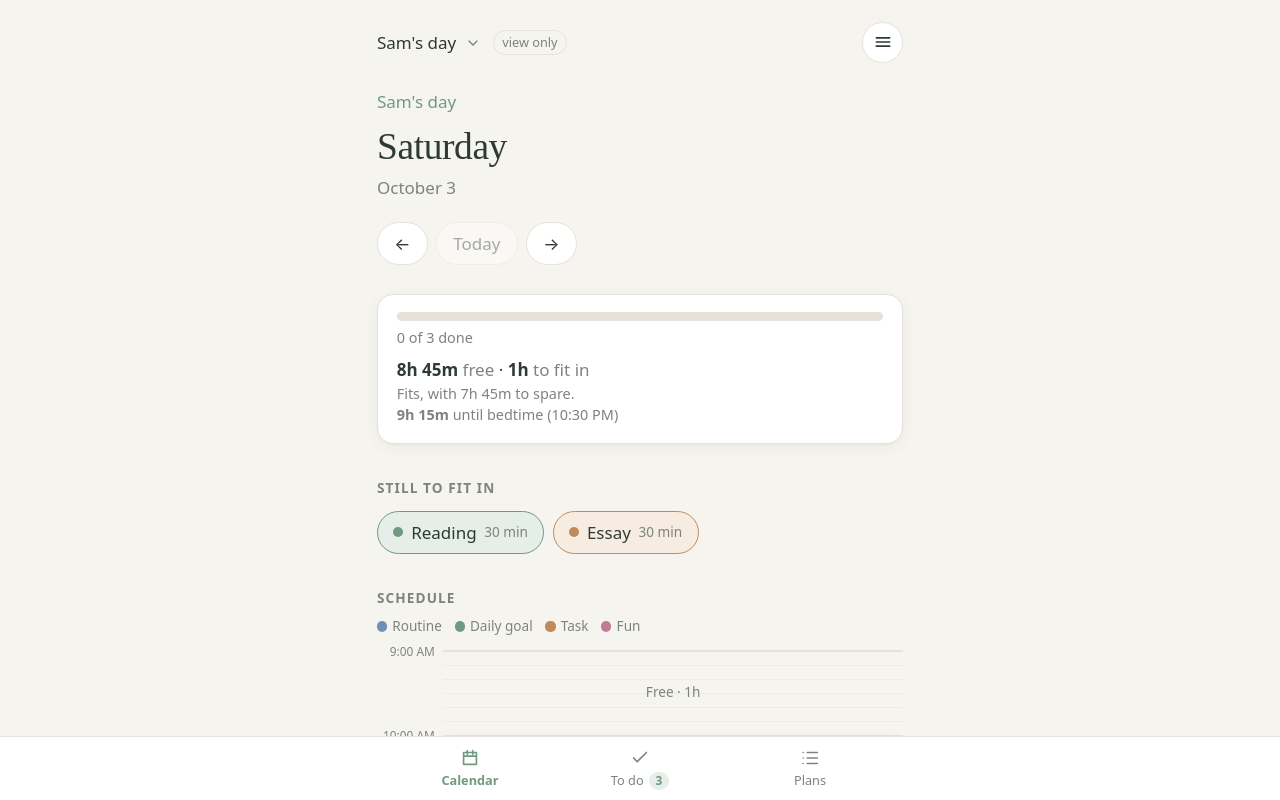
Test: viewing someone else's day › their plans and awake hours are view only too, and the menu has no Share my day
Expected: the heading "Saturday" is shown, top-left (377, 126), bottom-right (507, 167)
Click the button "Plans".
click(810, 768)  # box top-left (725, 743), bottom-right (895, 794)
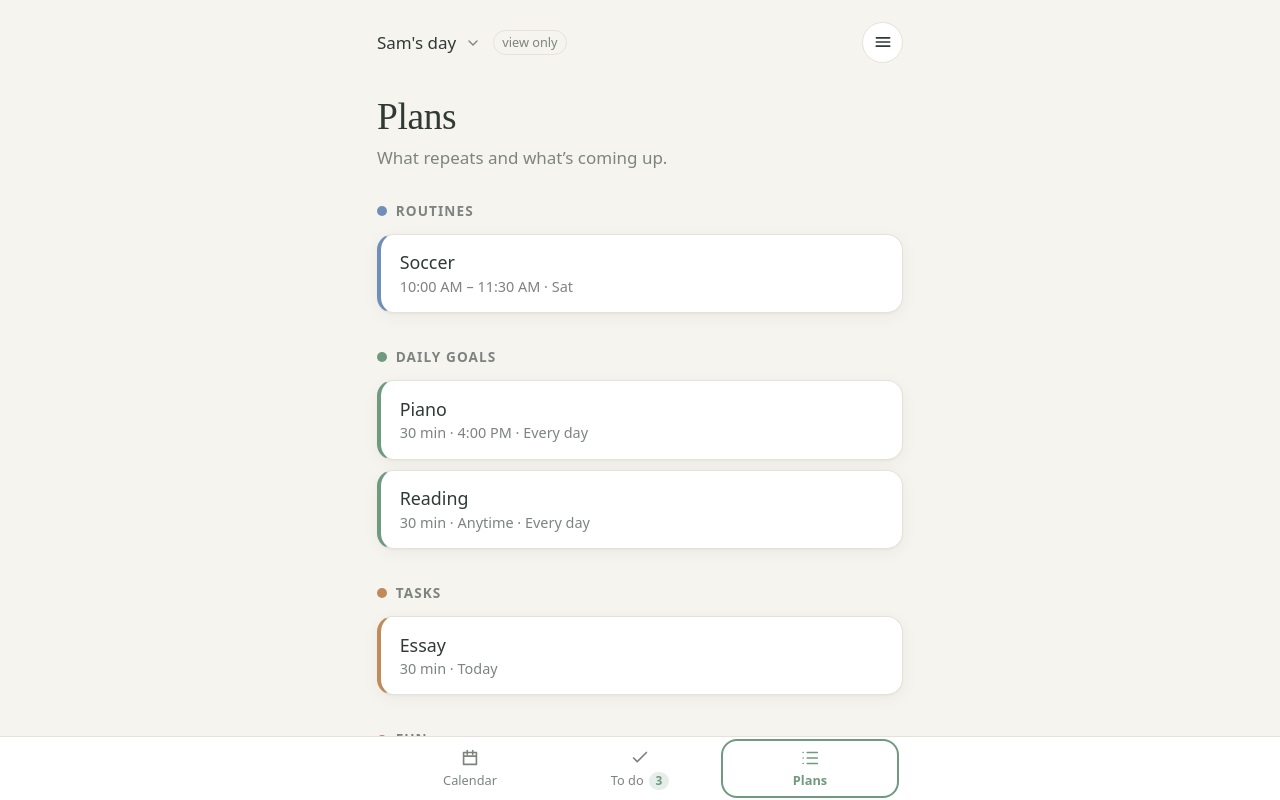
Click the text "Reading".
click(434, 498)  # box top-left (400, 485), bottom-right (468, 512)
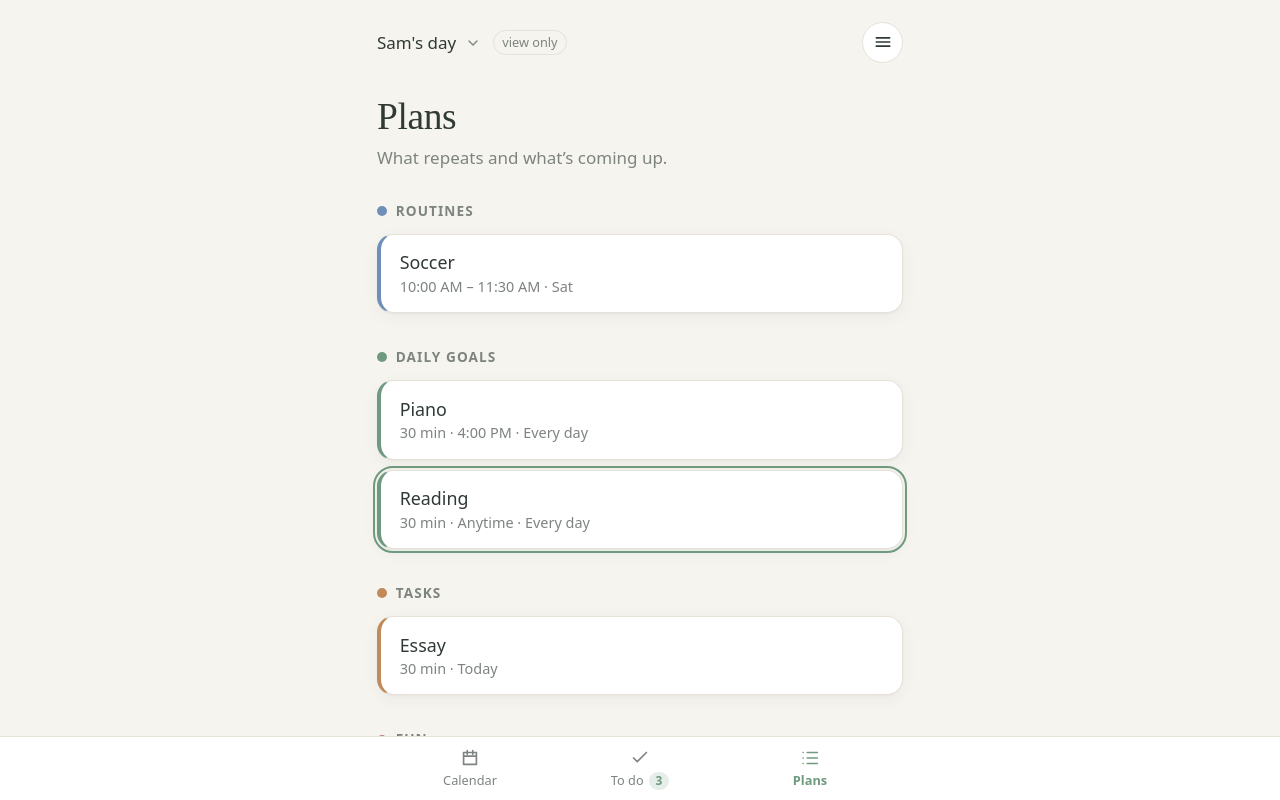
Click the button named "Menu".
click(883, 42)  # box top-left (862, 22), bottom-right (903, 63)
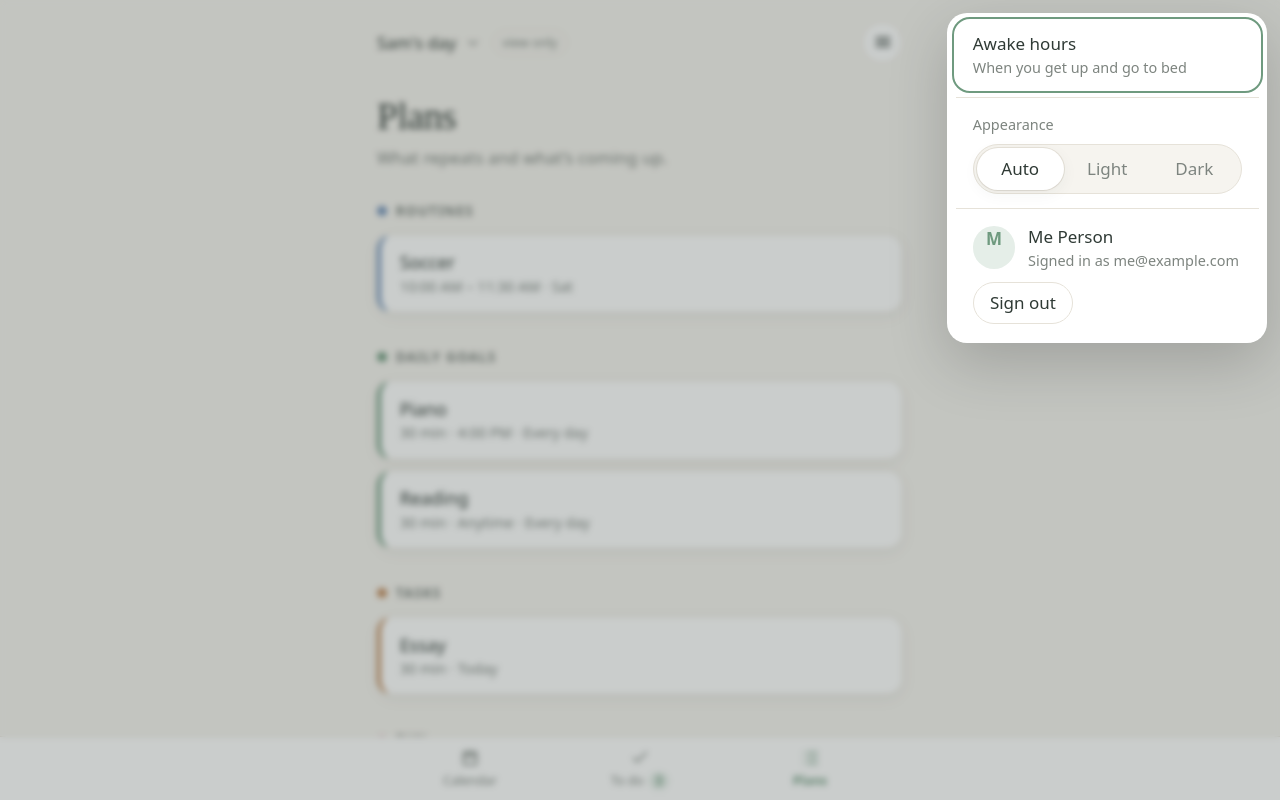
Click the button "Awake hours When you get up and go to bed".
click(1107, 55)  # box top-left (956, 21), bottom-right (1259, 89)
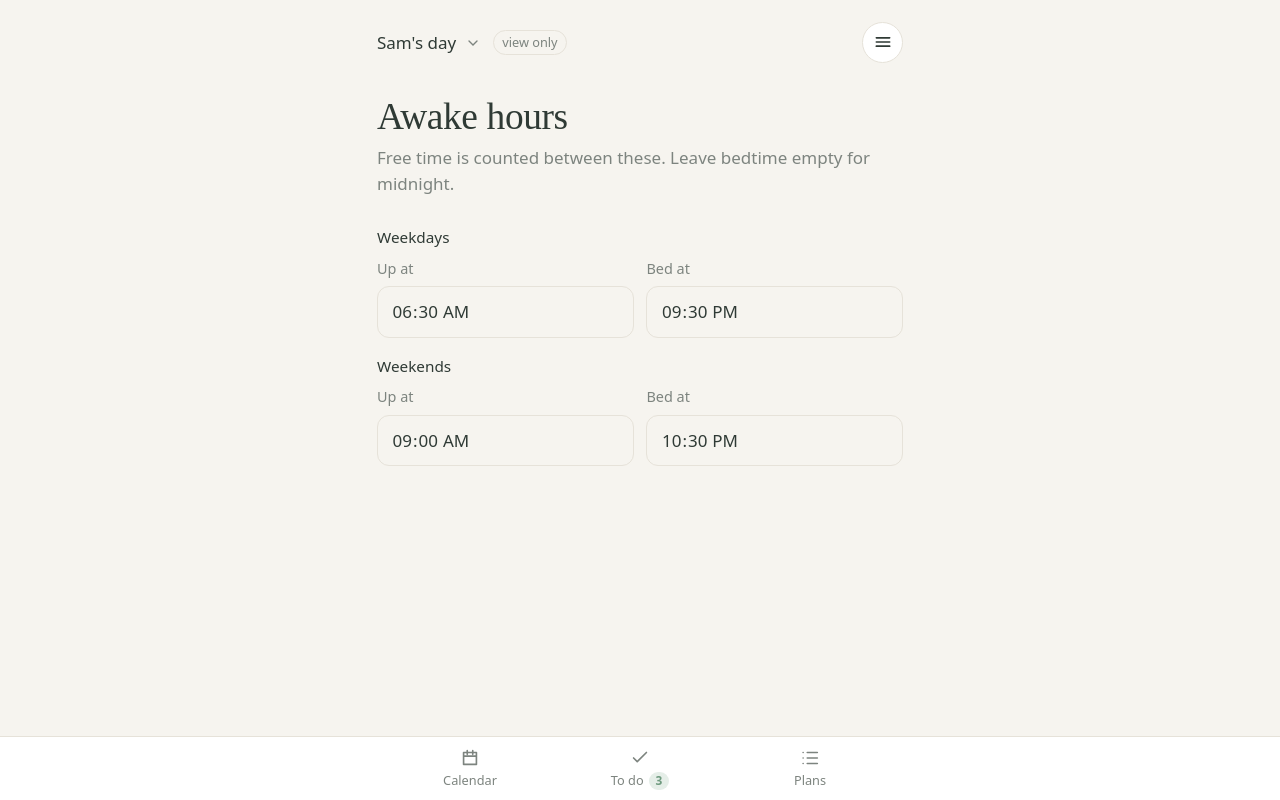
Expected: the time field labelled "Up at" below "Weekdays" is disabled, top-left (377, 286), bottom-right (634, 338)
Expected: the time field labelled "Up at" below "Weekends" is disabled, top-left (377, 414), bottom-right (634, 466)
